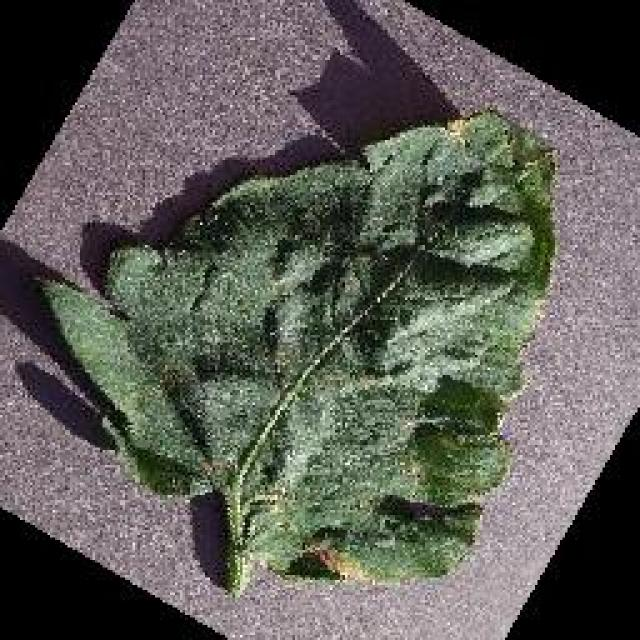Tomato___Target_Spot: (40, 112, 552, 588)
